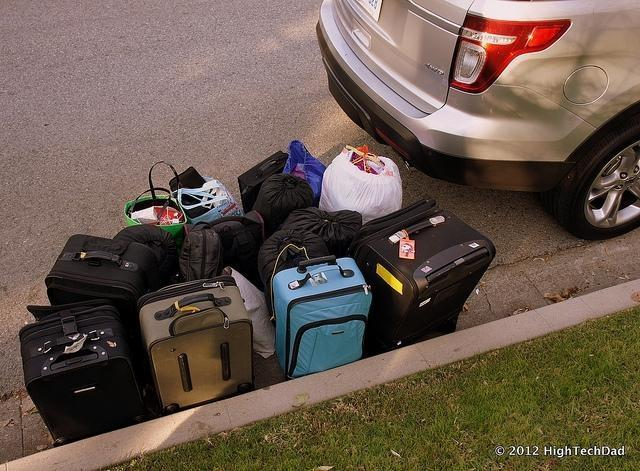car: (314, 1, 640, 243)
